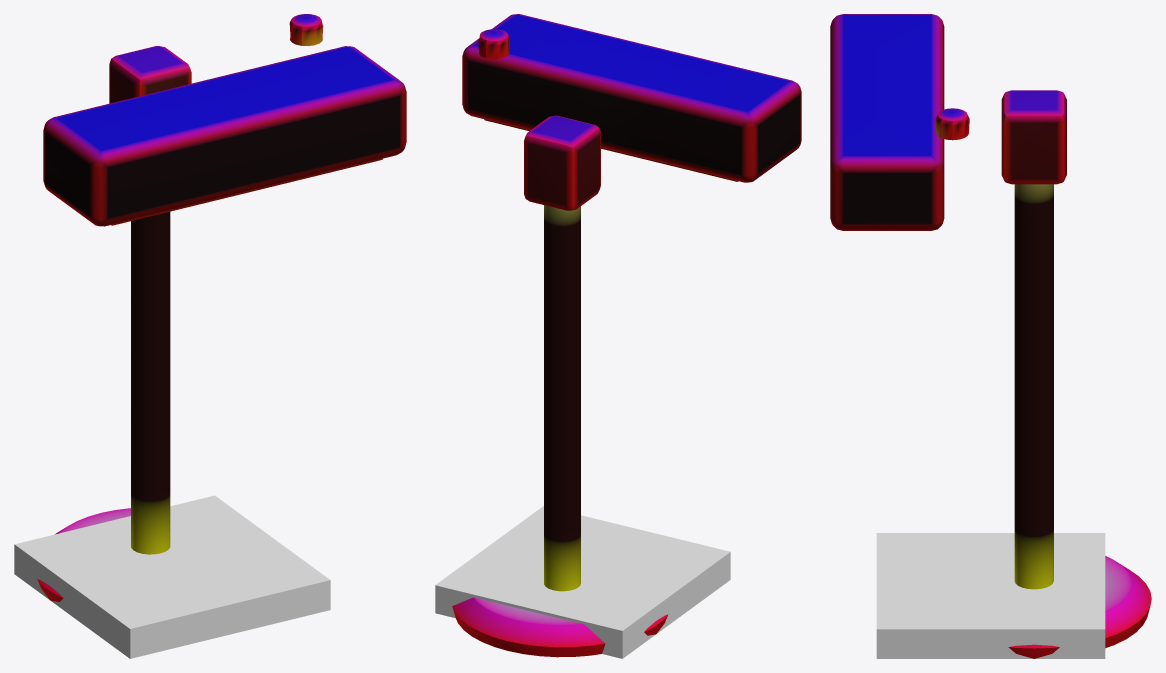
Rendered from prop_uv_lamp.fbx.
The picture shows the model from 3 angles, left to right: view 1: azimuth 30°, elevation 25°; view 2: azimuth 150°, elevation 25°; view 3: azimuth 270°, elevation 25°; orthographic projection. The views are drawn at different scales.
Visible parts, largest first — view 1: prop_uv_lamp, COL_0; view 2: prop_uv_lamp, COL_0; view 3: prop_uv_lamp, COL_0.
Part boxes in pixels (box(x1,y1,x2,y2)): prop_uv_lamp: box(37, 14, 406, 601); COL_0: box(14, 495, 330, 658); prop_uv_lamp: box(452, 14, 801, 657); COL_0: box(435, 506, 730, 658); prop_uv_lamp: box(830, 14, 1151, 658); COL_0: box(876, 533, 1105, 658).
Size of the model in its own units: 0.22 by 0.374 by 0.197.
